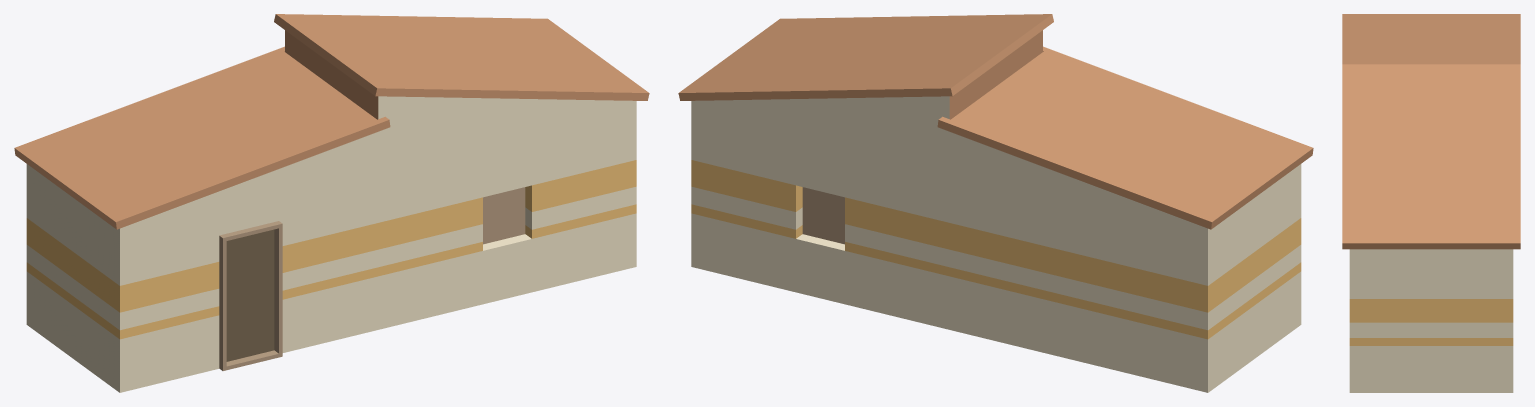
The model's file is Slope_house.fbx.
3 views of the same model, side by side, from view 1: azimuth 30°, elevation 25°; view 2: azimuth 150°, elevation 25°; view 3: azimuth 270°, elevation 25° (orthographic). The views are drawn at different scales.
Visible parts, largest first — view 1: Slope house; view 2: Slope house; view 3: Slope house.
Boxes of the visible parts, bbox=[...] form: Slope house: bbox=[14, 14, 649, 392]; Slope house: bbox=[678, 14, 1313, 392]; Slope house: bbox=[1342, 14, 1520, 392].
Size of the model in its own units: 2181 by 961 by 719.
